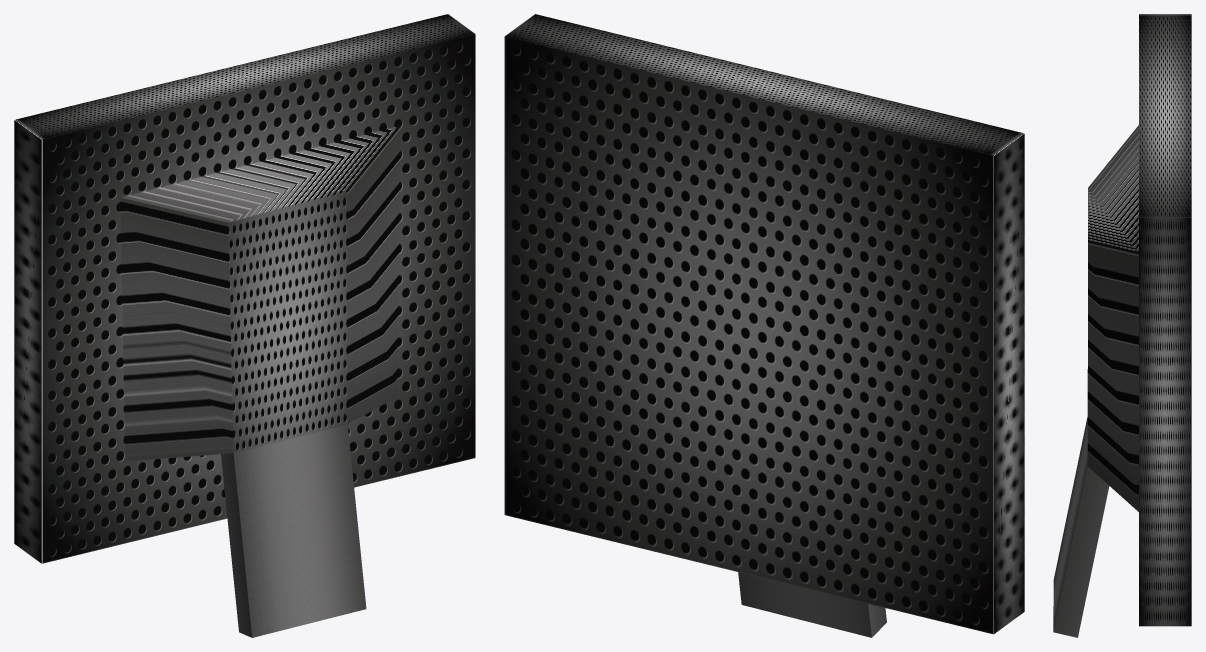
File: CPU.FBX
3 renders of one model, left to right at view 1: azimuth 30°, elevation 25°; view 2: azimuth 150°, elevation 25°; view 3: azimuth 270°, elevation 25°, orthographic. The views are drawn at different scales.
Parts seen in each view (by area): view 1: Box005; view 2: Box005; view 3: Box005.
Part boxes in pixels (x1=…): Box005: x1=14, y1=14, x2=475, y2=637; Box005: x1=504, y1=14, x2=1024, y2=637; Box005: x1=1053, y1=14, x2=1191, y2=637.
Size of the model in its own units: 22.05 by 6.32 by 24.79.
